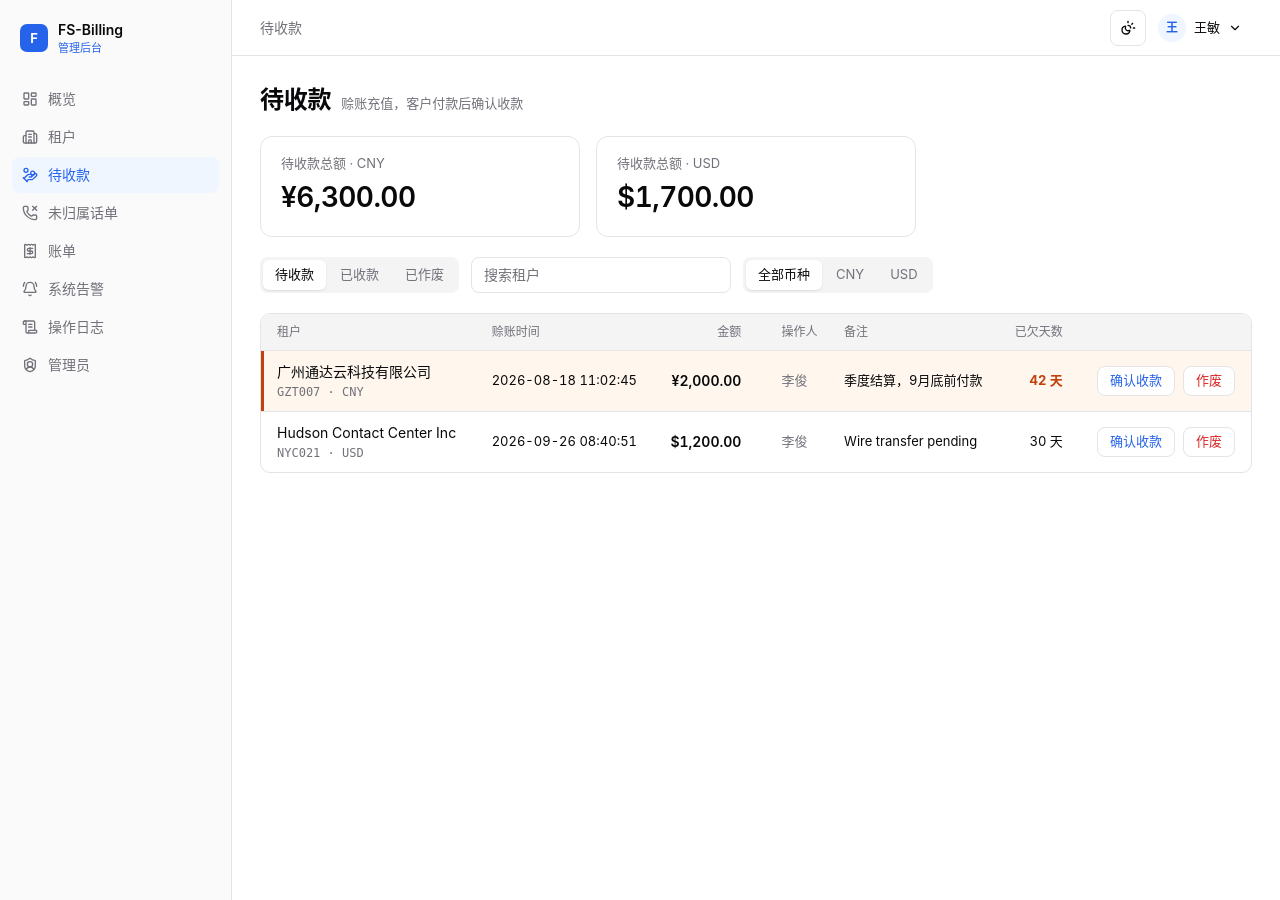
Test case: receivables list › currency filter queries the server and hides the other currency total
Expected: the table is shown, top-left (261, 314), bottom-right (1251, 472)
Click the button "USD".
click(904, 274)  # box top-left (878, 260), bottom-right (930, 290)
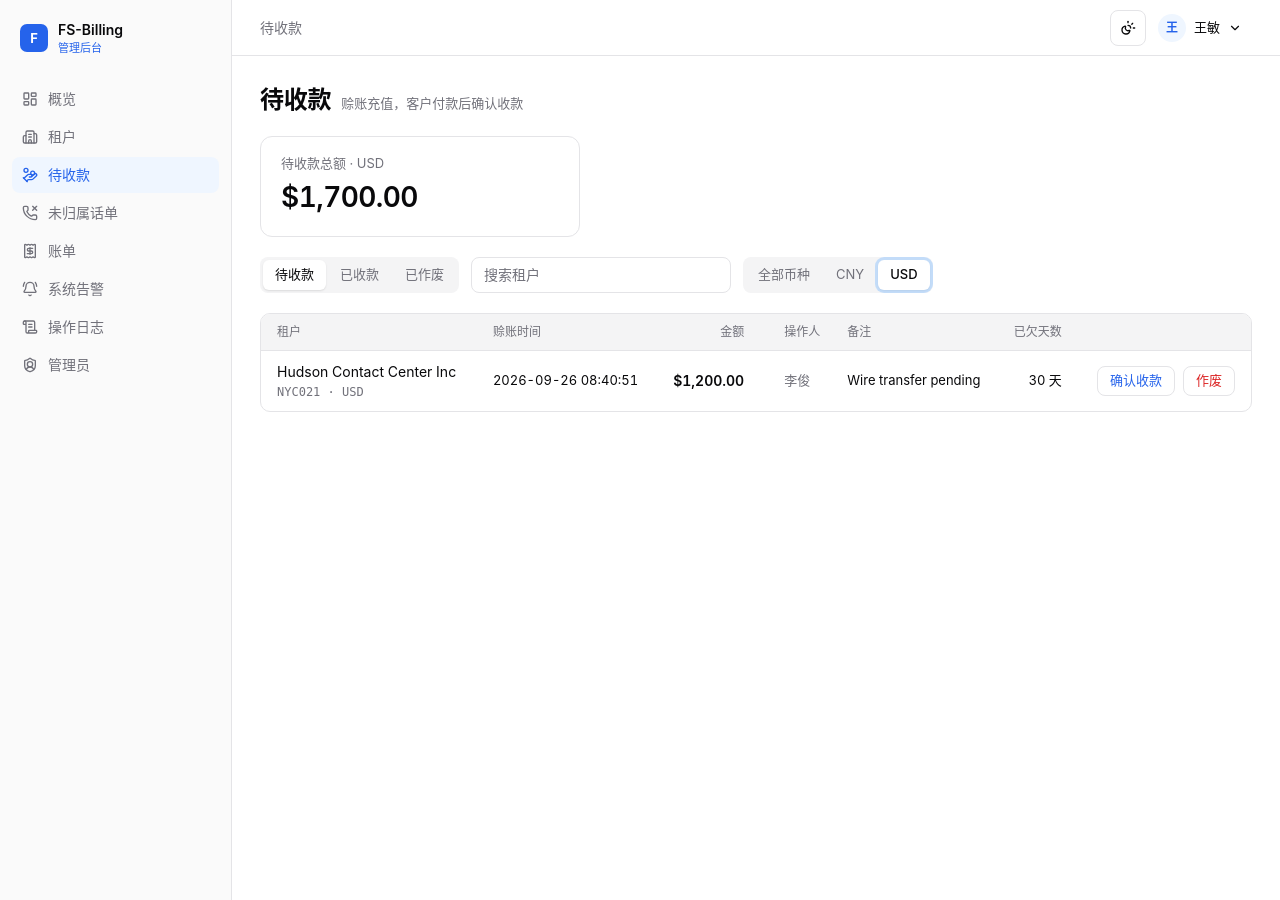
Expected: the list named "待收款合计" does not show "CNY", top-left (260, 136), bottom-right (580, 236)
Expected: the number of list items is 1, top-left (260, 136), bottom-right (580, 236)
Expected: the list named "待收款合计" reads "待收款总额 · USD $1,700.00", top-left (260, 136), bottom-right (580, 236)
